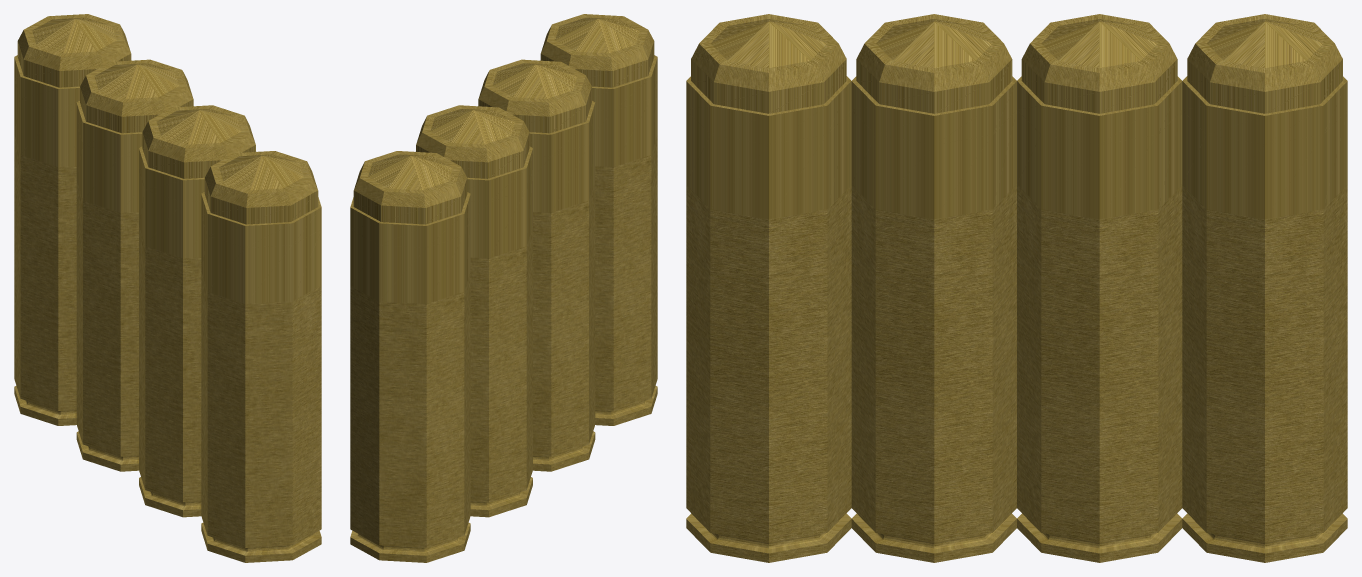
File: Ammo.fbx
3 views of the same model, side by side, from view 1: azimuth 30°, elevation 25°; view 2: azimuth 150°, elevation 25°; view 3: azimuth 270°, elevation 25° (orthographic). The views are drawn at different scales.
Parts seen in each view (by area): view 1: Cylinder.001; view 2: Cylinder.001; view 3: Cylinder.001.
Part boxes in pixels (<box>): Cylinder.001: <box>14,14,321,562</box>; Cylinder.001: <box>350,14,657,562</box>; Cylinder.001: <box>686,14,1347,562</box>.
Size of the model in its own units: 200 by 676 by 800.
1 material, 1 textured.
